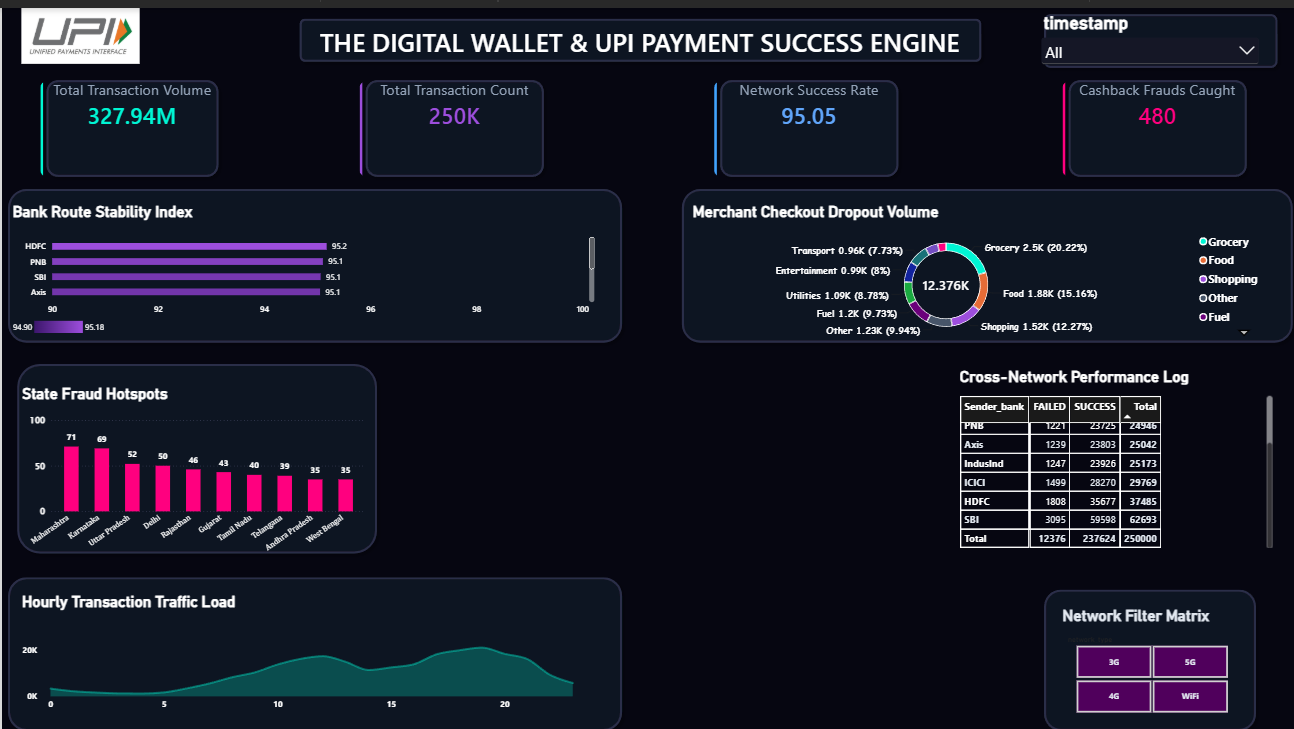

The dashboard page shown, as its layout file describes it:
{"tool":"powerbi","page":{"name":"Page 1","canvas":[1920,1080],"ordinal":0},"visuals":[{"type":"shape","box":[431.9,6.8,1027.5,81.8],"z":0},{"type":"textbox","box":[470.6,25,1018.4,72.7],"z":1000},{"type":"image","box":[0,0,232.1,82.7],"z":1002},{"type":"shape","box":[1534.4,0,363.7,97.7],"z":1003},{"type":"slicer","fields":{"Values":["upi_payment_db historical_payment_records.timestamp"]},"box":[1534.4,6.8,331.9,81.8],"z":1004},{"type":"shape","box":[56.8,97.7,272.8,161.4],"z":1005},{"type":"shape","box":[1570.8,97.7,281.9,161.4],"z":1006},{"type":"shape","box":[1054.8,97.7,281.9,161.4],"z":1007},{"type":"shape","box":[529.7,97.7,281.9,161.4],"z":1008},{"type":"cardVisual","fields":{"Data":["Sum(upi_payment_db historical_payment_records.amount (INR))"]},"box":[56.8,109.1,272.8,140.9],"z":1009},{"type":"cardVisual","fields":{"Data":["Sum(upi_payment_db historical_payment_records.fraud_flag)"]},"box":[1570.8,109.1,281.9,140.9],"z":1010},{"type":"cardVisual","fields":{"Data":["upi_payment_db historical_payment_records.Network_Success_Rate"]},"box":[1054.8,109.1,281.9,140.9],"z":1011},{"type":"cardVisual","fields":{"Data":["Count(upi_payment_db historical_payment_records.transaction id)"]},"box":[529.7,109.1,281.9,140.9],"z":1012},{"type":"shape","box":[0,259.1,927.5,245.5],"z":1013},{"type":"shape","box":[0,834.3,927.5,245.5],"z":1014},{"type":"shape","box":[14.7,518.9,550.7,298.6],"z":1015},{"type":"shape","box":[998,259.1,922.9,245.5],"z":1016},{"type":"clusteredBarChart","title":"Bank Route Stability Index","fields":{"Category":["upi_payment_db historical_payment_records.sender_bank"],"Y":["upi_payment_db historical_payment_records.Network_Success_Rate"]},"box":[0,275.1,893.4,229.6],"z":1017},{"type":"donutChart","title":"Merchant Checkout Dropout Volume","fields":{"Category":["upi_payment_db historical_payment_records.merchant_category","upi_payment_db historical_payment_records.transaction_status"],"Y":["CountNonNull(upi_payment_db historical_payment_records.transaction_status)"]},"box":[1007,275.1,913.8,229.6],"z":1018},{"type":"clusteredColumnChart","title":"State Fraud Hotspots","fields":{"Category":["upi_payment_db historical_payment_records.sender_state"],"Y":["Sum(upi_payment_db historical_payment_records.fraud_flag)"]},"box":[14.7,543.4,541,291.3],"z":1019},{"type":"areaChart","title":"Hourly Transaction Traffic Load","fields":{"Category":["upi_payment_db historical_payment_records.hour_of_day"],"Y":["CountNonNull(upi_payment_db historical_payment_records.transaction id)"]},"box":[13.6,852.5,891.1,209.1],"z":1020},{"type":"pivotTable","title":"Cross-Network Performance Log","fields":{"Columns":["upi_payment_db historical_payment_records.transaction_status"],"Rows":["upi_payment_db historical_payment_records.sender_bank"],"Values":["CountNonNull(upi_payment_db historical_payment_records.transaction id)"]},"box":[1402.6,518.3,495.6,297.8],"z":1022},{"type":"shape","box":[1534.4,852.5,331.9,227.3],"z":1023},{"type":"slicer","title":"Network Filter Matrix","fields":{"Values":["upi_payment_db historical_payment_records.network_type"]},"box":[1570.8,886.6,263.7,159.1],"z":1024}]}

Visuals, with their boxes in screenshot pixels (x1, y1, x2, y2), scaled from the page's 1920x1080 canvas onto the 1294x729 screenshot:
shape: [291, 5, 984, 60]
textbox: [317, 17, 1004, 66]
image: [0, 0, 156, 56]
shape: [1034, 0, 1279, 66]
slicer - upi_payment_db historical_payment_records.timestamp: [1034, 5, 1258, 60]
shape: [38, 66, 222, 175]
shape: [1059, 66, 1249, 175]
shape: [711, 66, 901, 175]
shape: [357, 66, 547, 175]
cardVisual - Sum(upi_payment_db historical_payment_records.amount (INR)): [38, 74, 222, 169]
cardVisual - Sum(upi_payment_db historical_payment_records.fraud_flag): [1059, 74, 1249, 169]
cardVisual - upi_payment_db historical_payment_records.Network_Success_Rate: [711, 74, 901, 169]
cardVisual - Count(upi_payment_db historical_payment_records.transaction id): [357, 74, 547, 169]
shape: [0, 175, 625, 341]
shape: [0, 563, 625, 728]
shape: [10, 350, 381, 552]
shape: [673, 175, 1293, 341]
"Bank Route Stability Index" clusteredBarChart: [0, 186, 602, 341]
"Merchant Checkout Dropout Volume" donutChart: [679, 186, 1293, 341]
"State Fraud Hotspots" clusteredColumnChart: [10, 367, 375, 563]
"Hourly Transaction Traffic Load" areaChart: [9, 575, 610, 717]
"Cross-Network Performance Log" pivotTable: [945, 350, 1279, 551]
shape: [1034, 575, 1258, 728]
"Network Filter Matrix" slicer: [1059, 598, 1236, 706]
